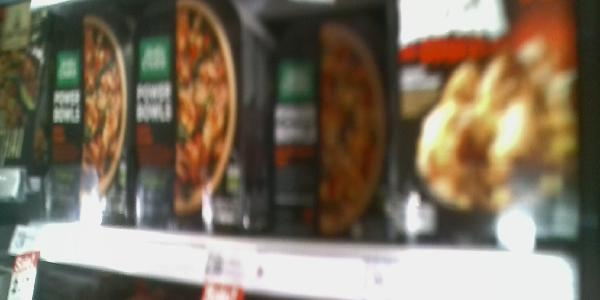pizza1: (392, 1, 584, 239), (135, 1, 257, 233), (270, 7, 388, 242), (48, 7, 132, 226)
